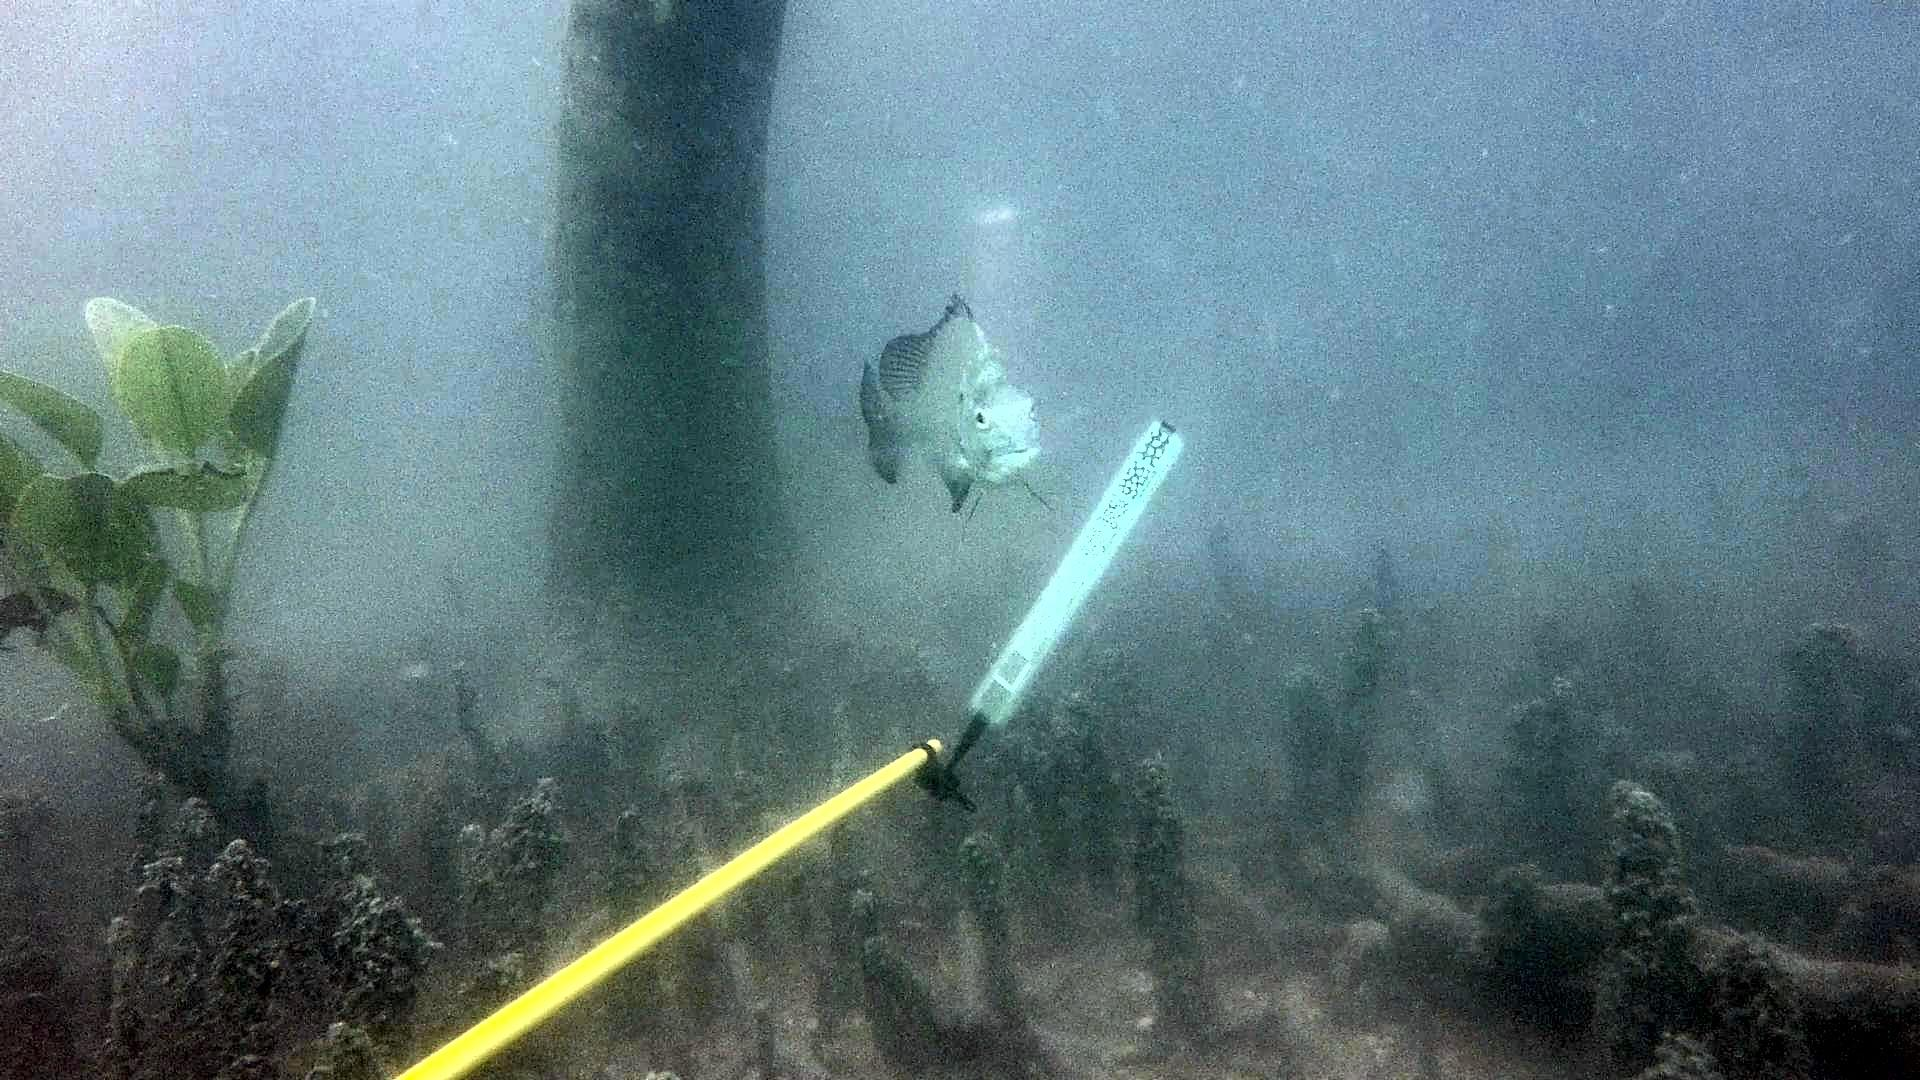acanthopagrus palmaris: (837, 281, 1068, 539)
